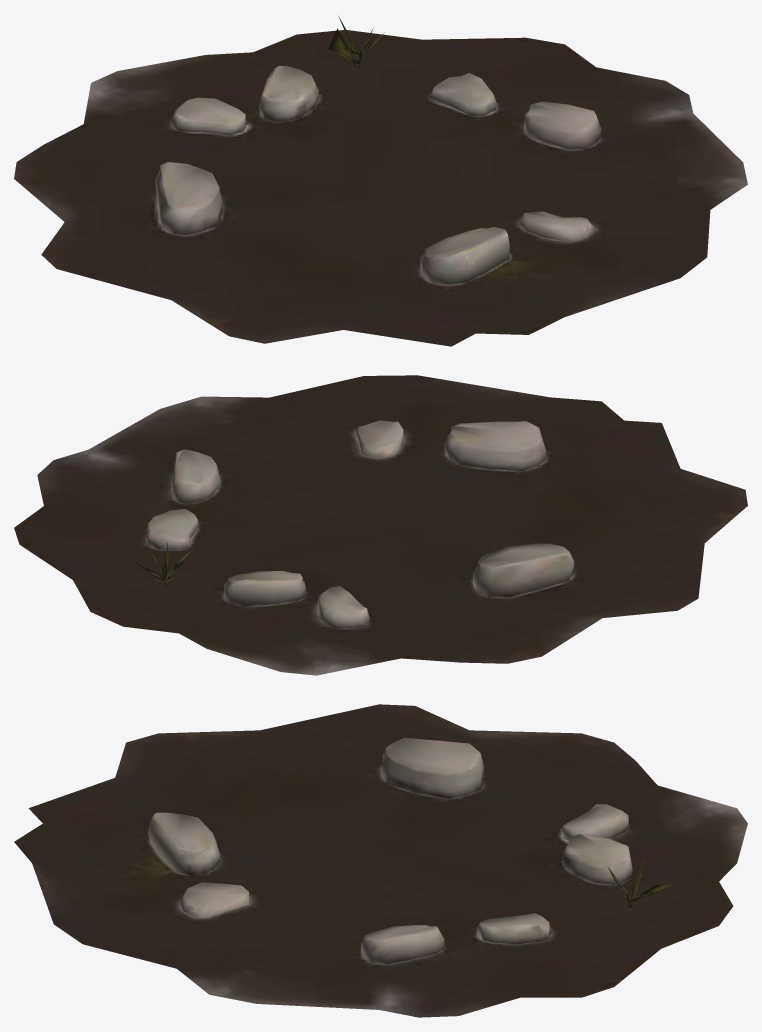
File: wyn_accord_chalk_ring.glb
3 renders of one model, top to bottom at view 1: azimuth 30°, elevation 25°; view 2: azimuth 150°, elevation 25°; view 3: azimuth 270°, elevation 25°, orthographic. The views are drawn at different scales.
Visible parts, largest first — view 1: tripo_node_5b07b706-bdcf-4579-b389-6d09d8aeacdb; view 2: tripo_node_5b07b706-bdcf-4579-b389-6d09d8aeacdb; view 3: tripo_node_5b07b706-bdcf-4579-b389-6d09d8aeacdb.
Boxes of the visible parts, x1,y1,x2,y2 form: tripo_node_5b07b706-bdcf-4579-b389-6d09d8aeacdb: [14, 16, 747, 346]; tripo_node_5b07b706-bdcf-4579-b389-6d09d8aeacdb: [14, 375, 747, 675]; tripo_node_5b07b706-bdcf-4579-b389-6d09d8aeacdb: [14, 704, 747, 1017].
Size of the model in its own units: 3.42 by 0.2999 by 3.38.
Materials: 1 (1 with a texture image).
